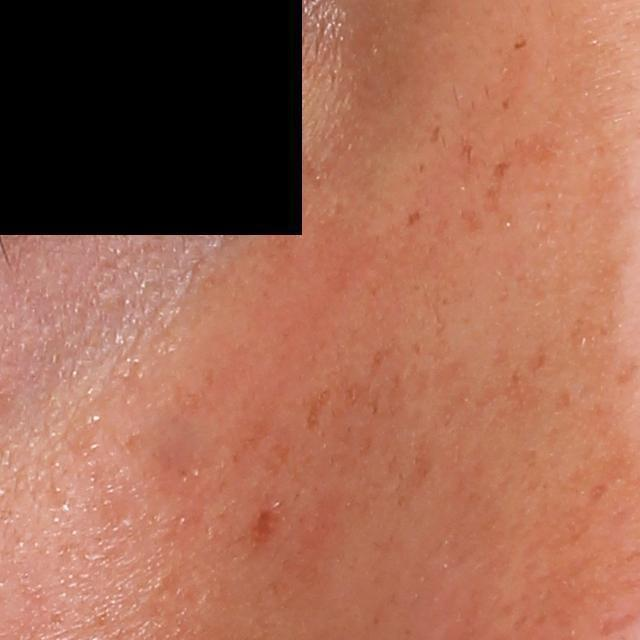melasma: (344, 342, 406, 410), (243, 502, 287, 553), (483, 159, 510, 219), (305, 386, 332, 434), (458, 206, 487, 238), (402, 205, 424, 230), (427, 123, 440, 146), (508, 37, 529, 51), (499, 95, 511, 112)
